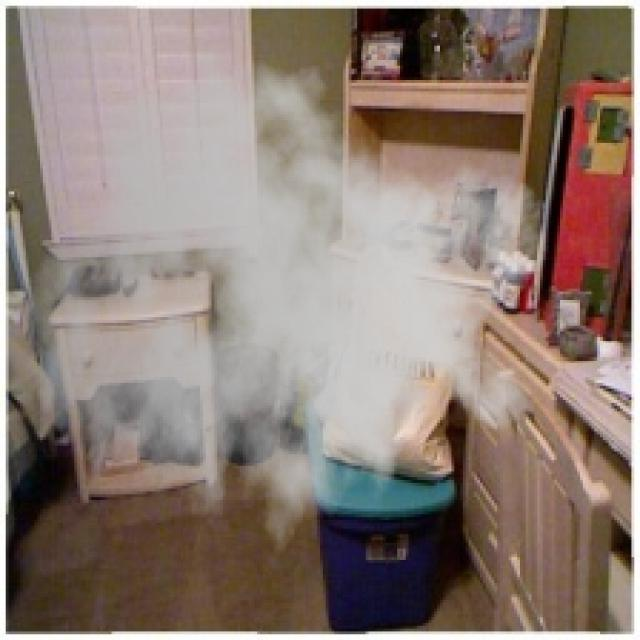smoke: (26, 32, 551, 577)
